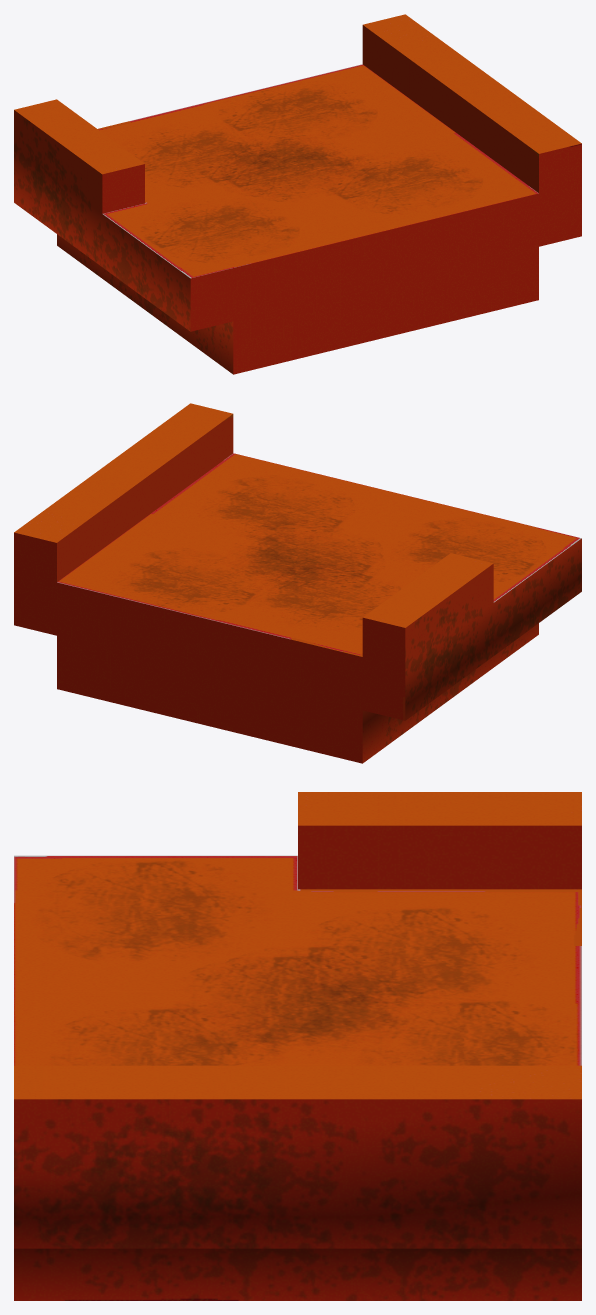
File: Tile2.FBX
3 renders of one model, top to bottom at view 1: azimuth 30°, elevation 25°; view 2: azimuth 150°, elevation 25°; view 3: azimuth 270°, elevation 25°, orthographic. The views are drawn at different scales.
Parts seen in each view (by area): view 1: Tile2; view 2: Tile2; view 3: Tile2.
Boxes of the visible parts, box(x1,y1,x2,y2) form: Tile2: box(14, 14, 581, 374); Tile2: box(14, 403, 581, 763); Tile2: box(14, 792, 581, 1300).
Bounding box in the file's own units: 7.68 × 2.74 × 6.
